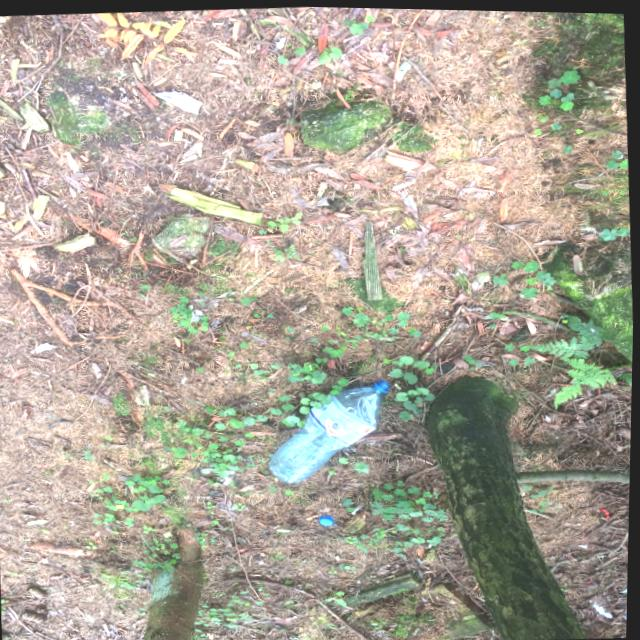Plastic: (252, 366, 412, 492), (146, 85, 206, 119)
